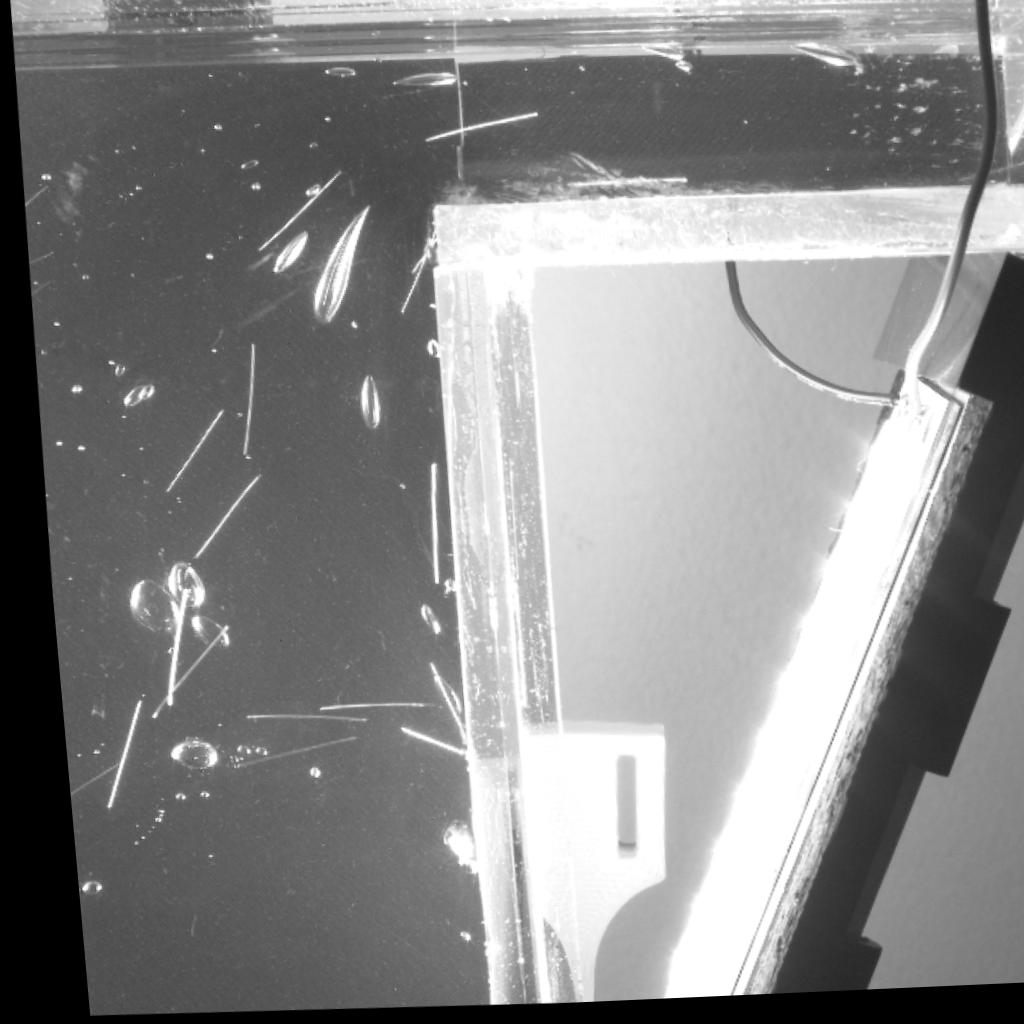Fiber: (134, 621, 216, 720), (248, 173, 340, 254), (180, 473, 253, 558), (153, 408, 217, 491), (214, 735, 341, 769), (90, 697, 128, 809), (148, 586, 179, 710), (419, 113, 535, 145), (390, 231, 431, 315), (415, 663, 452, 741), (379, 726, 448, 759), (55, 755, 113, 794), (410, 462, 427, 589), (232, 343, 247, 455), (234, 714, 350, 727), (560, 180, 682, 191), (305, 703, 422, 713), (20, 177, 49, 208), (23, 247, 50, 266), (24, 279, 42, 296)
